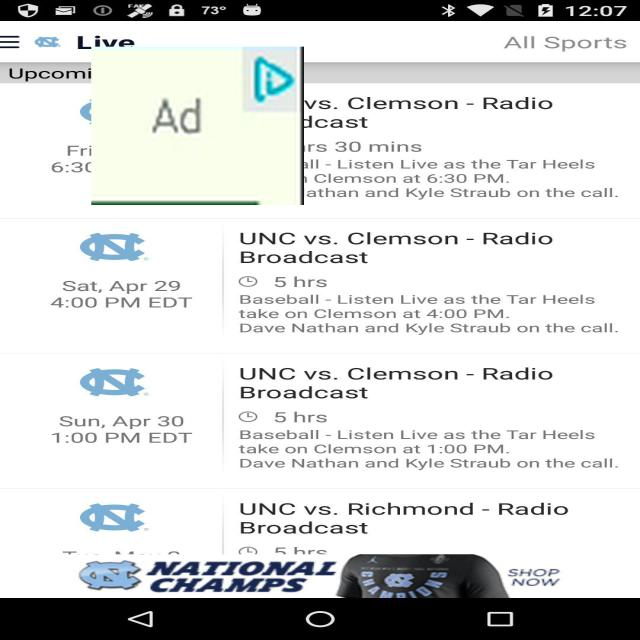sneaking: (91, 47, 304, 205)
